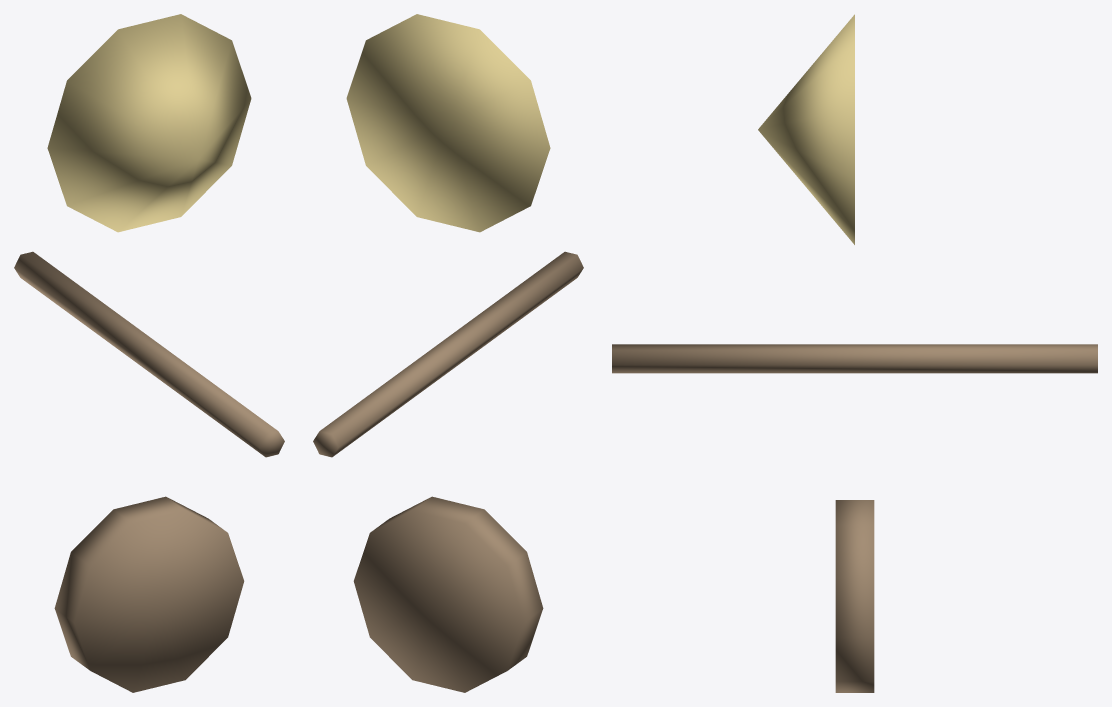
The model's file is furn_lamp.glb.
The picture shows the model from 3 angles, left to right: view 1: azimuth 30°, elevation 25°; view 2: azimuth 150°, elevation 25°; view 3: azimuth 270°, elevation 25°; orthographic projection.
Visible parts, largest first — view 1: shade, base, pole; view 2: shade, base, pole; view 3: pole, shade, base.
Boxes of the visible parts, <box> form: shade: <box>47,14,251,232</box>; base: <box>54,496,244,692</box>; pole: <box>14,251,284,457</box>; shade: <box>346,14,550,232</box>; base: <box>353,496,543,692</box>; pole: <box>313,251,583,457</box>; pole: <box>612,344,1097,373</box>; shade: <box>758,14,854,244</box>; base: <box>835,500,874,692</box>.
Bounding box in the file's own units: 0.24 × 0.7392 × 0.5.
